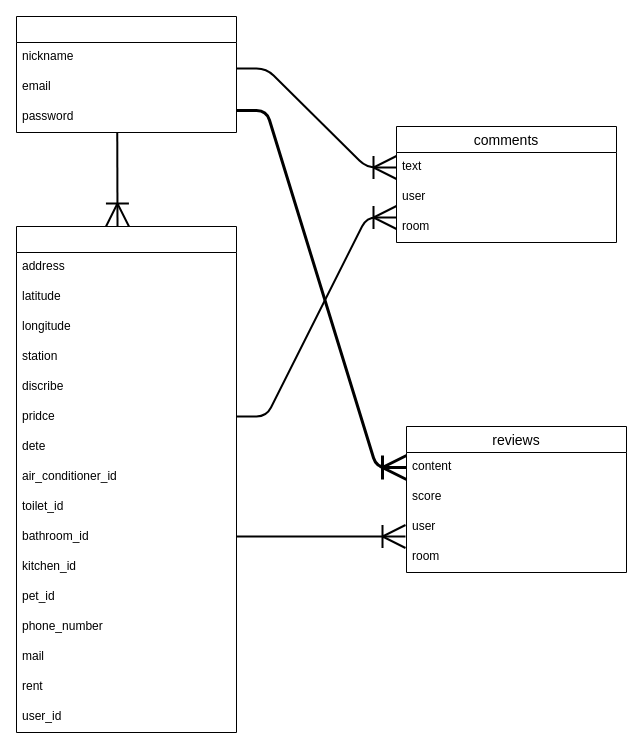
Some shapes in this 643 by 749 pixel diagram are drawn without their labels. The shapes that lost their labels are listed below. From the top down, each one's box as (x1, y1, x2, y2) in pixels, then its label:
(16, 16, 236, 132): users
(16, 226, 236, 732): rooms
